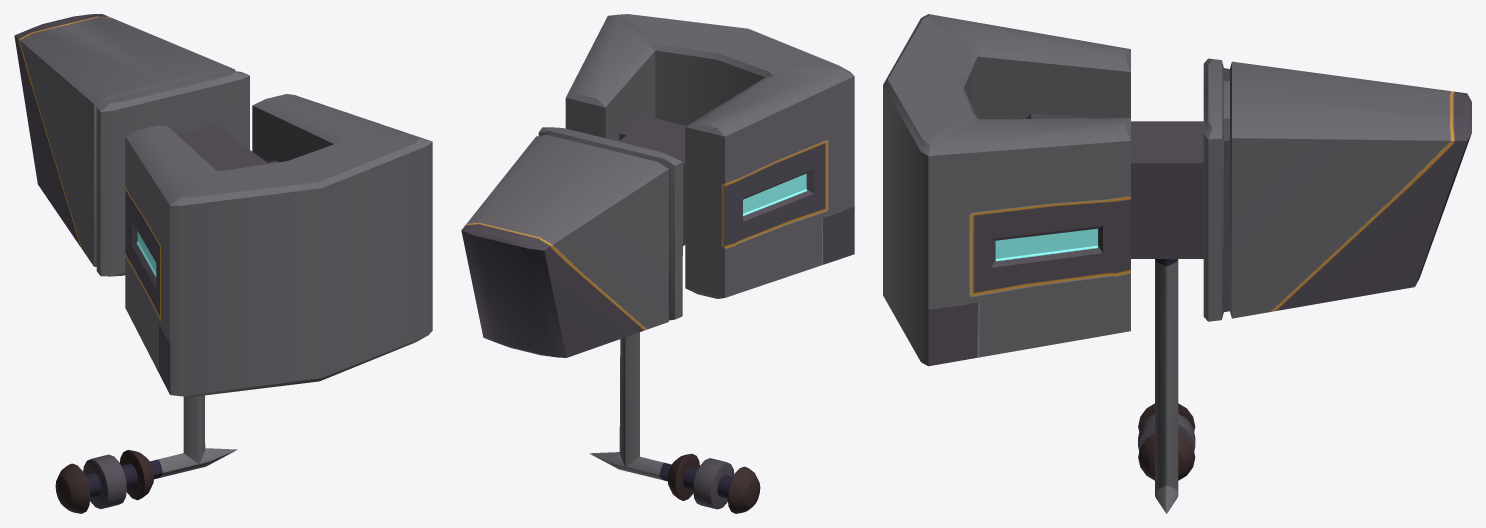
File: Chariot03_tiechui02.FBX
The picture shows the model from 3 angles, left to right: view 1: azimuth 30°, elevation 25°; view 2: azimuth 150°, elevation 25°; view 3: azimuth 270°, elevation 25°; orthographic projection. The views are drawn at different scales.
Visible parts, largest first — view 1: Chariot03_tiechui02; view 2: Chariot03_tiechui02; view 3: Chariot03_tiechui02.
Boxes of the visible parts, x1,y1,x2,y2 form: Chariot03_tiechui02: [14, 14, 432, 513]; Chariot03_tiechui02: [461, 14, 854, 513]; Chariot03_tiechui02: [883, 14, 1471, 513].
Size of the model in its own units: 2.38 by 3.38 by 4.13.
